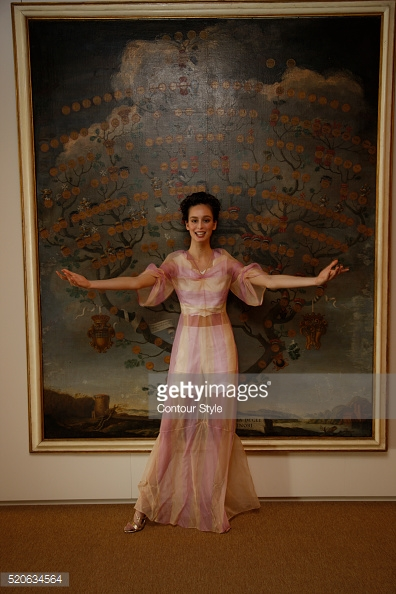em pe: (91, 183, 314, 524)
